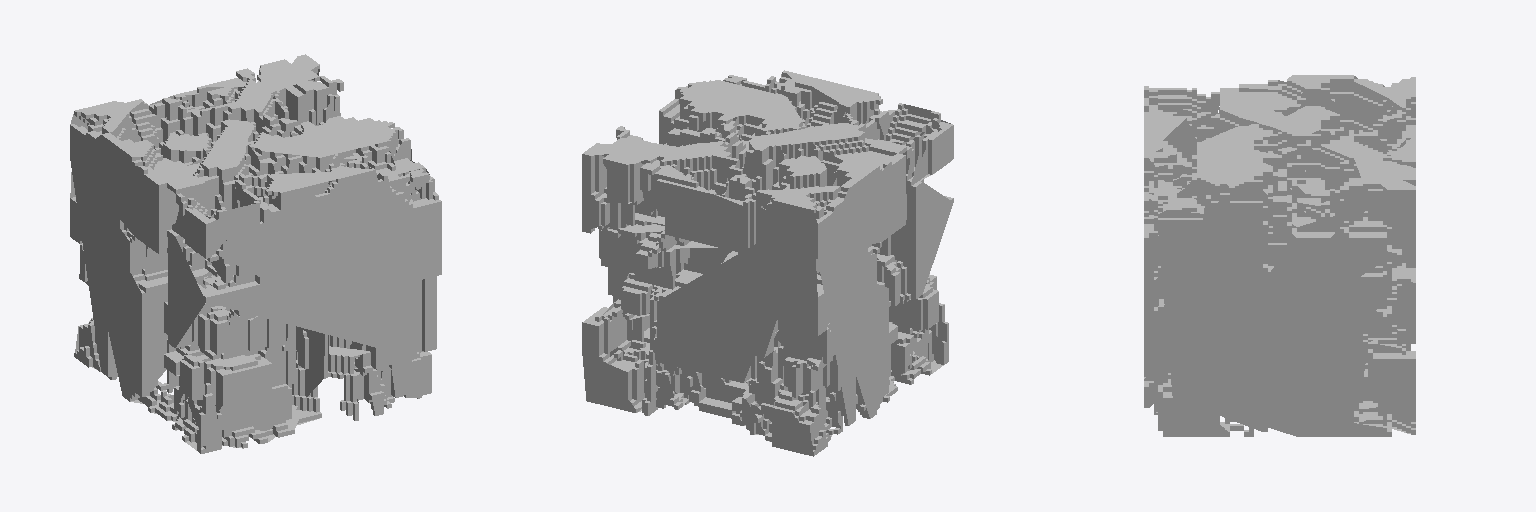
File: techCube.obj
3 renders of one model, left to right at view 1: azimuth 30°, elevation 25°; view 2: azimuth 150°, elevation 25°; view 3: azimuth 270°, elevation 25°, orthographic.
Visible parts, largest first — view 1: Cube; view 2: Cube; view 3: Cube.
Part boxes in pixels (left/top/right/bottom): Cube: left=70, top=54, right=441, bottom=453; Cube: left=582, top=70, right=953, bottom=456; Cube: left=1144, top=75, right=1415, bottom=436.
Size of the model in its own units: 1.98 by 1.98 by 1.98.